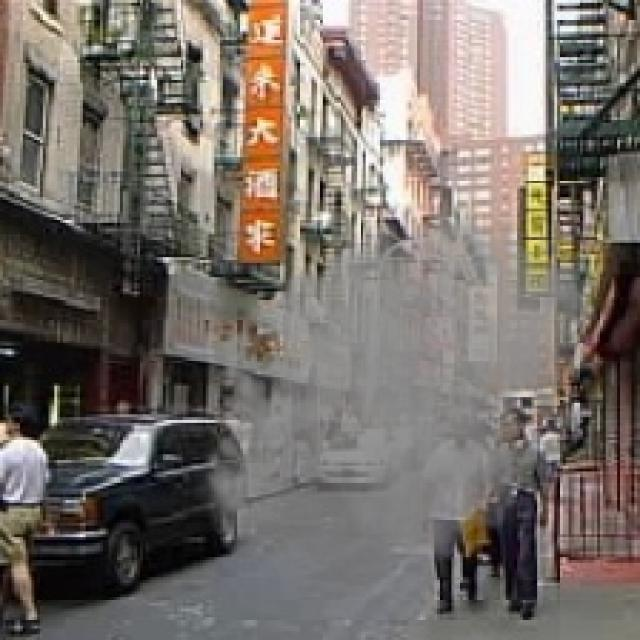Smoke: (192, 192, 597, 617)
